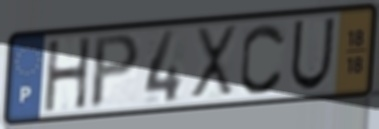4: (141, 27, 187, 106)
C: (238, 21, 288, 97)
H: (43, 34, 94, 115)
P: (87, 31, 144, 112)
U: (288, 15, 338, 94)
X: (188, 23, 239, 101)
